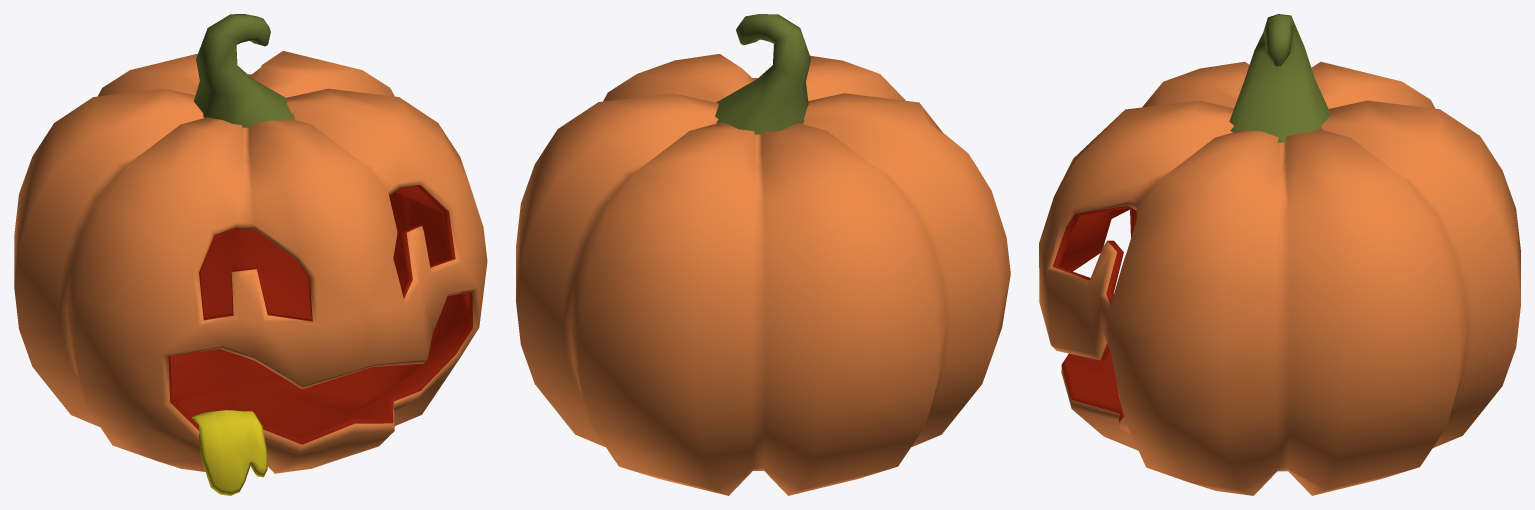
Rendered from pumpkin_3 (3).fbx.
3 views of the same model, side by side, from view 1: azimuth 30°, elevation 25°; view 2: azimuth 150°, elevation 25°; view 3: azimuth 270°, elevation 25° (orthographic). The views are drawn at different scales.
Parts seen in each view (by area): view 1: pumpkin_3; view 2: pumpkin_3; view 3: pumpkin_3.
Boxes of the visible parts, <box> form: pumpkin_3: <box>14,14,487,495</box>; pumpkin_3: <box>516,14,1010,495</box>; pumpkin_3: <box>1039,14,1520,495</box>.
Size of the model in its own units: 119 by 116 by 120.
